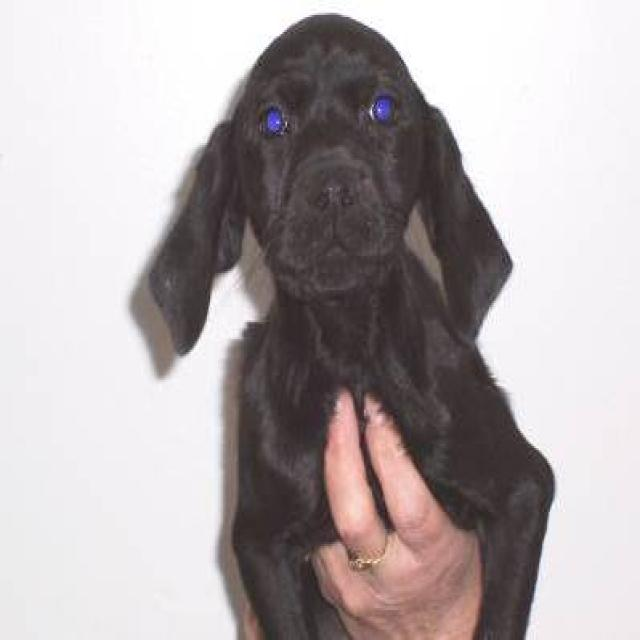Dog: (138, 0, 521, 363)
